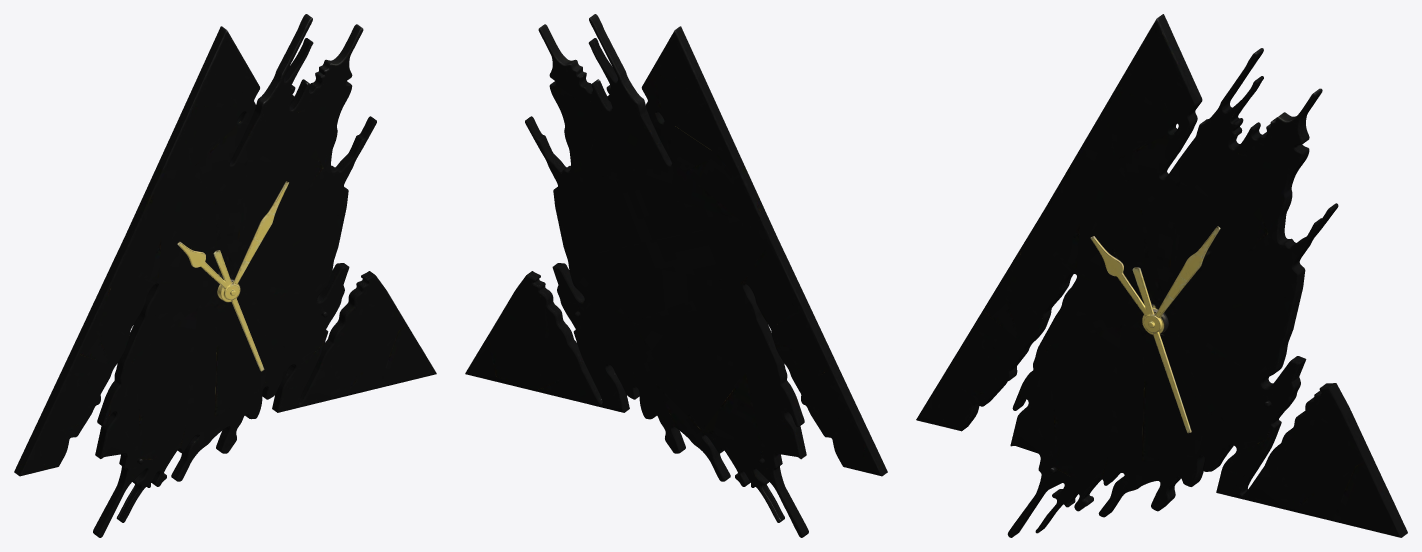
Rendered from Meshy_AI_Abstract_Timepiece_0926081857_texture.glb.
3 renders of one model, left to right at view 1: azimuth 30°, elevation 25°; view 2: azimuth 150°, elevation 25°; view 3: azimuth 330°, elevation 25°, orthographic. The views are drawn at different scales.
Size of the model in its own units: 1.74 by 1.9 by 0.1068.
1 material, 1 textured.
